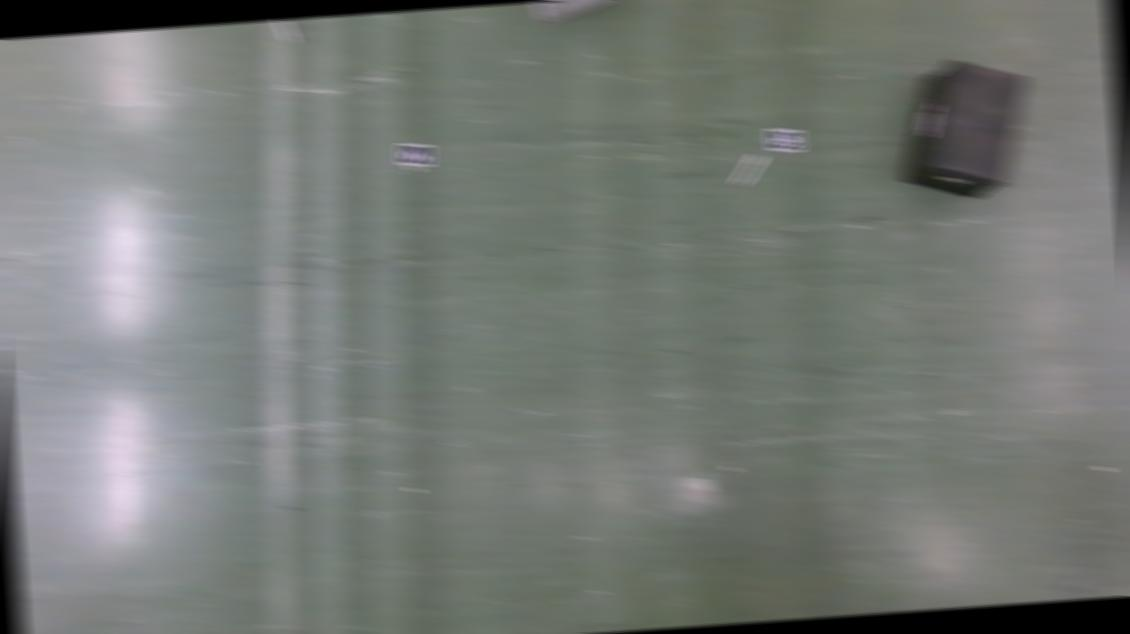probes: (734, 154, 766, 186), (273, 18, 296, 44)
rako: (893, 56, 1036, 206), (525, 0, 622, 23)
